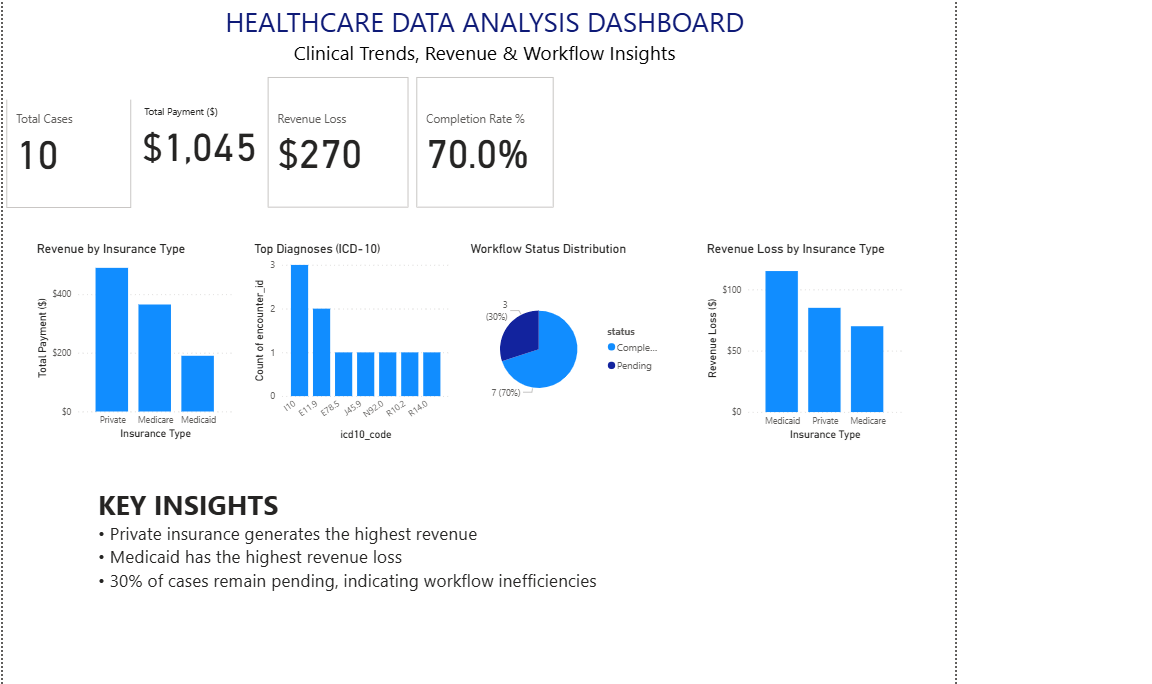

This screenshot's page, from the dashboard's own definition file:
{"tool":"powerbi","page":{"name":"Healthcare Dashboard","canvas":[1314,1000],"ordinal":0},"visuals":[{"type":"pieChart","title":"Workflow Status Distribution","fields":{"Category":["healthcare_analysis.status"],"Y":["CountNonNull(healthcare_analysis.encounter_id)"]},"box":[639.5,385.6,279.9,279.9],"z":0},{"type":"clusteredColumnChart","title":"Revenue by Insurance Type","fields":{"Category":["healthcare_analysis.insurance_type"],"Y":["Sum(healthcare_analysis.payment)"]},"box":[40.9,386.4,280.9,279.1],"z":1000},{"type":"columnChart","title":"Top Diagnoses (ICD-10)","fields":{"Category":["healthcare_analysis.icd10_code"],"Y":["CountNonNull(healthcare_analysis.encounter_id)"]},"box":[341.7,385.6,279.9,279.9],"z":2000},{"type":"cardVisual","fields":{"Data":["healthcare_analysis.Revenue Loss"]},"box":[360.7,154.9,204.3,190.6],"z":3000},{"type":"cardVisual","fields":{"Data":["healthcare_analysis.Total Cases"]},"box":[0,156.9,182.8,189.7],"z":4000},{"type":"card","title":"Total Payment($)","fields":{"Values":["healthcare_analysis.Total Payment"]},"box":[182.9,155.2,177.6,189.7],"z":5000},{"type":"cardVisual","fields":{"Data":["healthcare_analysis.Completion Rate %"]},"box":[565.1,154.9,199.1,190.6],"z":6000},{"type":"clusteredColumnChart","title":"Revenue Loss by Insurance Type","fields":{"Category":["healthcare_analysis.insurance_type"],"Y":["healthcare_analysis.Revenue Loss"]},"box":[966,385.6,279.9,279.9],"z":7000},{"type":"textbox","box":[763,117,156,191],"z":8000},{"type":"textbox","box":[0,0,183,191],"z":9000},{"type":"textbox","box":[183,0,176,155],"z":10000},{"type":"textbox","box":[360.9,0,480,95.3],"z":11000},{"type":"textbox","box":[243.4,52.8,842.6,102.1],"z":12000},{"type":"textbox","box":[125.9,719,1062.1,255.2],"z":12001},{"type":"textbox","box":[189.7,193.1,160.3,37.9],"z":12002}]}

Visuals, with their boxes on the page's 1314x1000 design canvas (x1, y1, x2, y2). These are canvas units, not pixel positions in the 1152x684 screenshot, which may show the page scaled, cropped or inside an application window:
"Workflow Status Distribution" pieChart: 640:386:919:666
"Revenue by Insurance Type" clusteredColumnChart: 41:386:322:666
"Top Diagnoses (ICD-10)" columnChart: 342:386:622:666
cardVisual - healthcare_analysis.Revenue Loss: 361:155:565:346
cardVisual - healthcare_analysis.Total Cases: 0:157:183:347
"Total Payment($)" card: 183:155:360:345
cardVisual - healthcare_analysis.Completion Rate %: 565:155:764:346
"Revenue Loss by Insurance Type" clusteredColumnChart: 966:386:1246:666
textbox: 763:117:919:308
textbox: 0:0:183:191
textbox: 183:0:359:155
textbox: 361:0:841:95
textbox: 243:53:1086:155
textbox: 126:719:1188:974
textbox: 190:193:350:231
